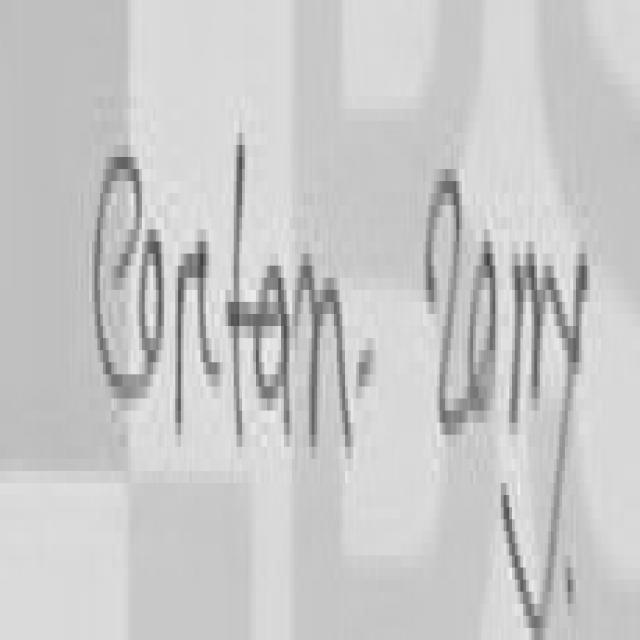0: (468, 221, 500, 432)
2: (418, 129, 471, 513)
C: (80, 111, 142, 430)
a: (250, 239, 294, 472)
g: (495, 205, 603, 640)
m: (503, 195, 562, 438)
n: (294, 239, 359, 501)
o: (135, 224, 169, 396)
r: (167, 220, 224, 460)
t: (220, 108, 256, 476)
